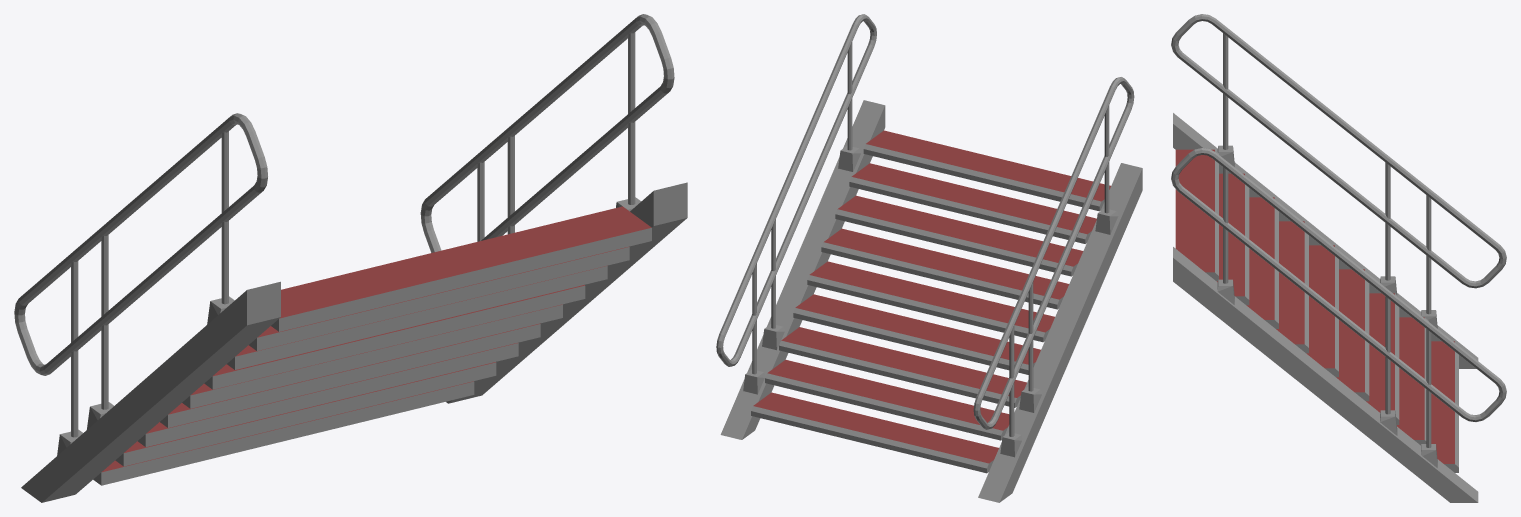
File: Stairs_MetalSmall.fbx
The picture shows the model from 3 angles, left to right: view 1: azimuth 30°, elevation 25°; view 2: azimuth 150°, elevation 25°; view 3: azimuth 270°, elevation 25°; orthographic projection. The views are drawn at different scales.
Visible parts, largest first — view 1: Stair_Metal_01; view 2: Stair_Metal_01; view 3: Stair_Metal_01.
Part boxes in pixels (box(x1,y1,x2,y2)): Stair_Metal_01: box(14, 14, 687, 502); Stair_Metal_01: box(716, 14, 1142, 502); Stair_Metal_01: box(1171, 14, 1506, 502).
Size of the model in its own units: 128 by 144 by 125.
